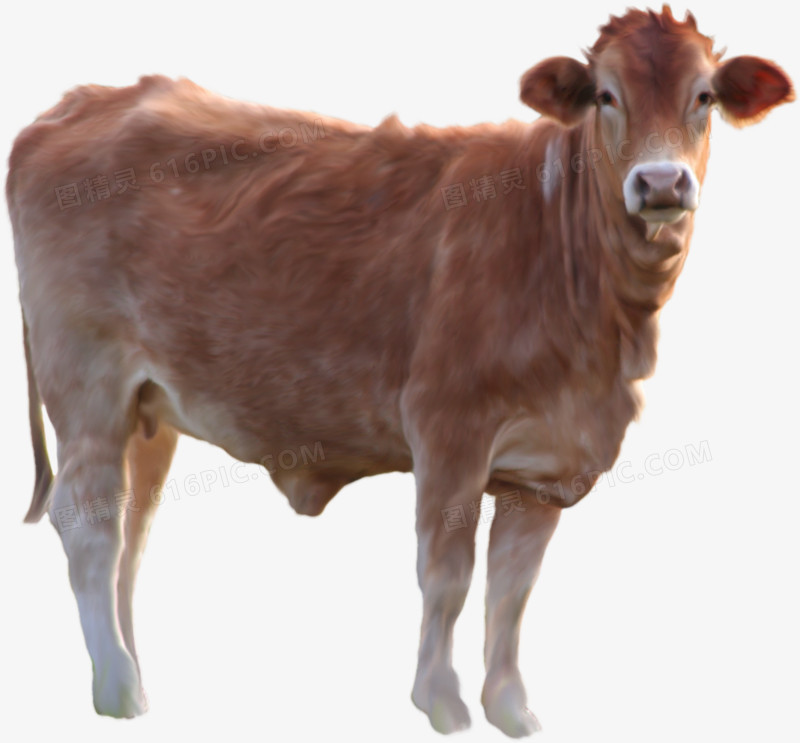background: (3, 15, 780, 715)
